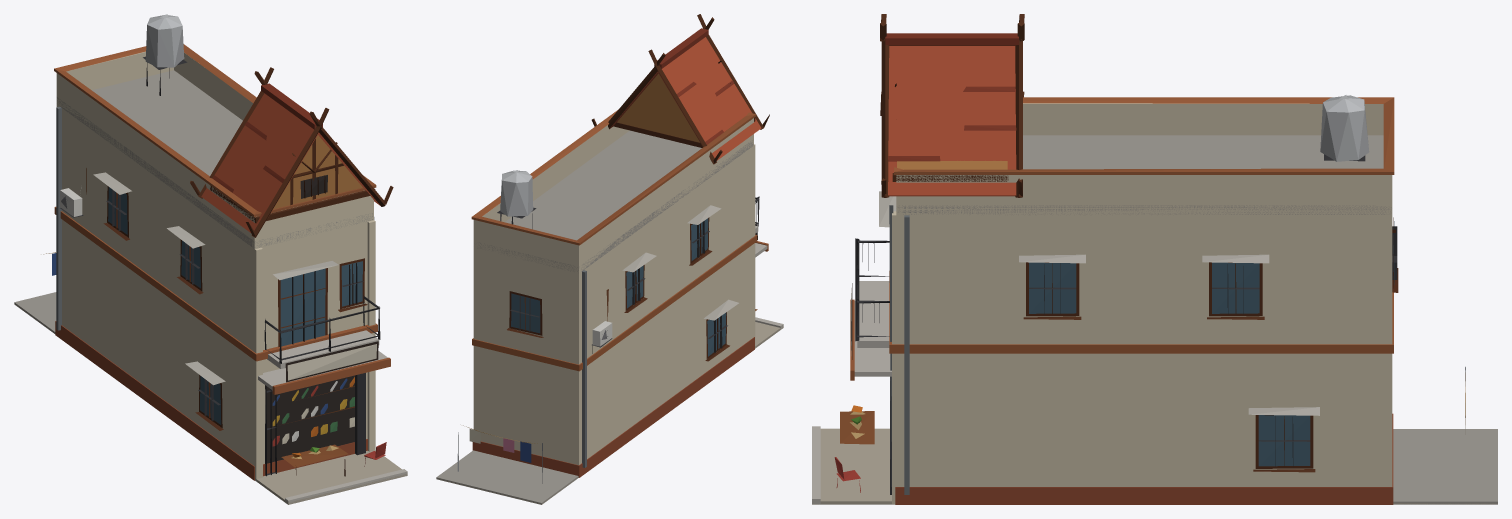
The model's file is bay1_one.glb.
The picture shows the model from 3 angles, left to right: view 1: azimuth 30°, elevation 25°; view 2: azimuth 150°, elevation 25°; view 3: azimuth 270°, elevation 25°; orthographic projection. The views are drawn at different scales.
Visible parts, largest first — view 1: body, windows; view 2: body, windows; view 3: body, windows.
Part boxes in pixels (bbox=[...]): body: bbox=[14, 14, 407, 504]; windows: bbox=[108, 175, 362, 463]; body: bbox=[436, 14, 783, 504]; windows: bbox=[511, 218, 726, 356]; body: bbox=[812, 14, 1497, 504]; windows: bbox=[1029, 221, 1394, 466].
Size of the model in its own units: 4.98 by 11.54 by 15.9.
